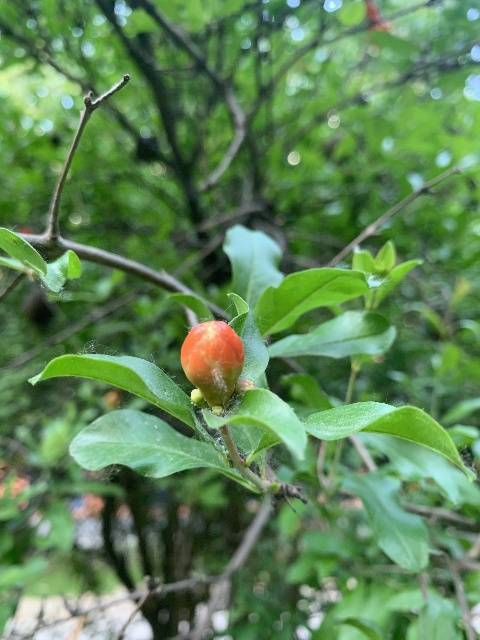bud: (180, 320, 245, 405)
